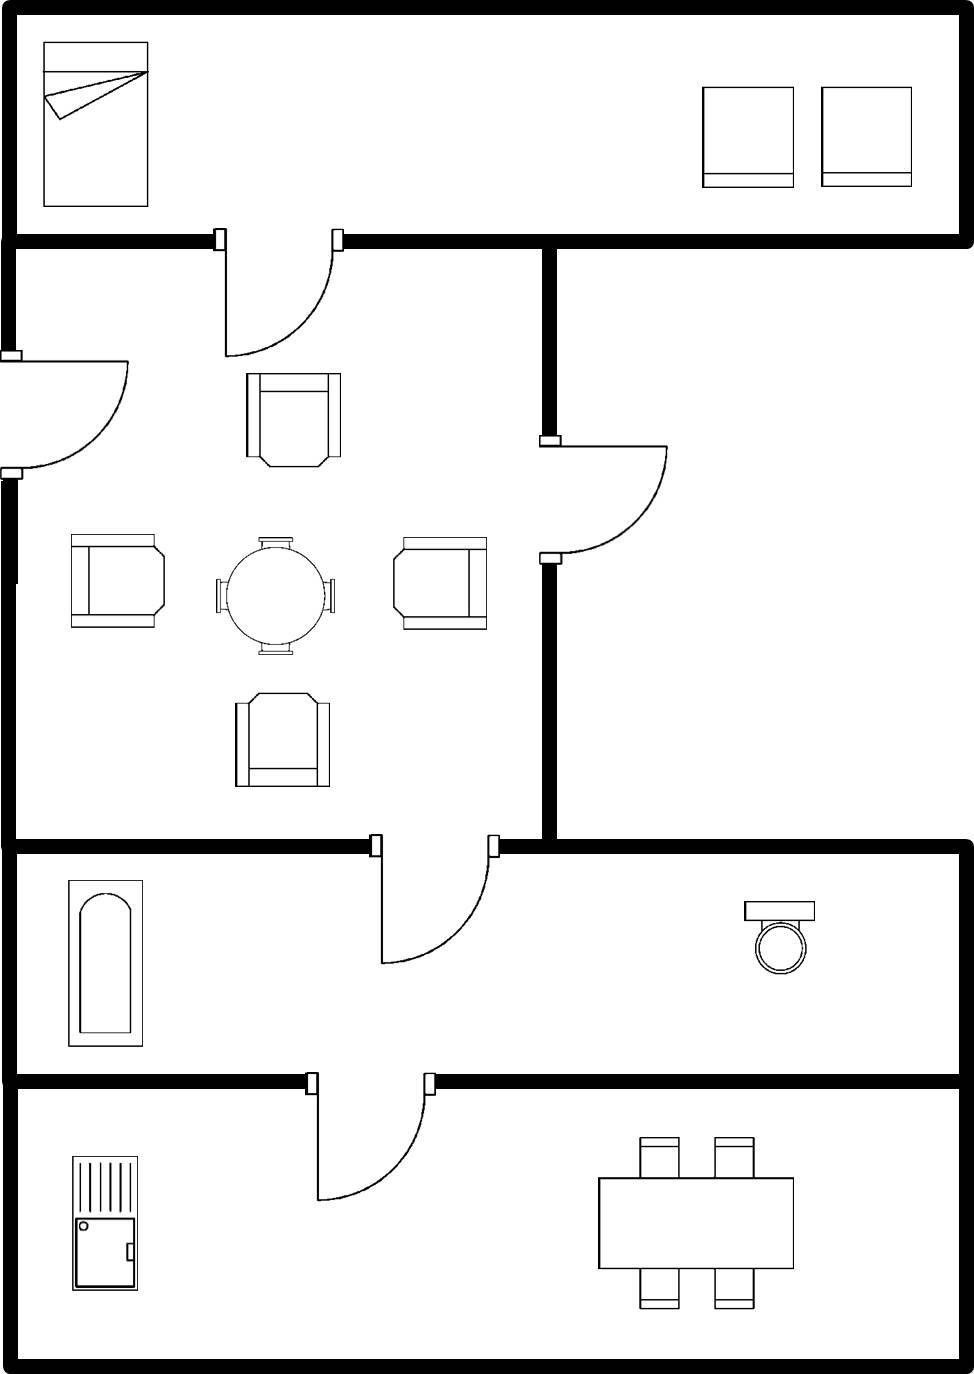bed: (36, 31, 155, 217)
dining_table: (589, 1117, 803, 1318)
round_table: (204, 527, 340, 661)
sink: (61, 1143, 148, 1301)
toilet: (735, 890, 823, 982)
tub: (57, 871, 153, 1054)
